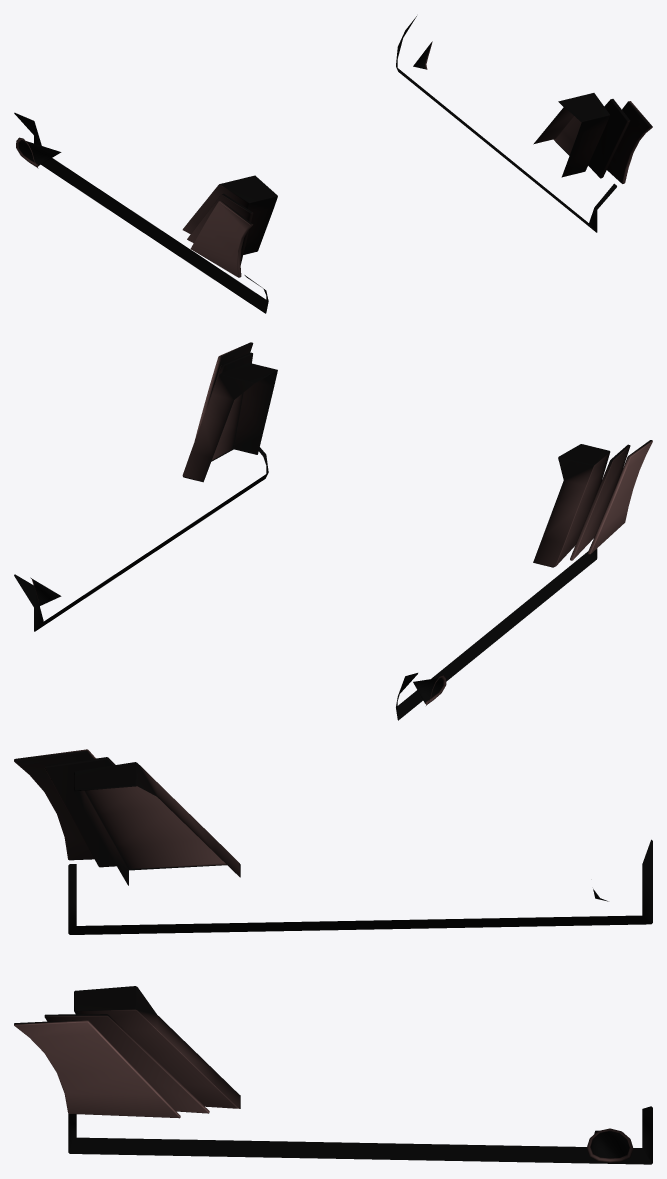
The model's file is Viper_Skirt_03_Trim.fbx.
The picture shows the model from 3 angles, top to bottom: view 1: azimuth 30°, elevation 25°; view 2: azimuth 150°, elevation 25°; view 3: azimuth 270°, elevation 25°; orthographic projection. The views are drawn at different scales.
Visible parts, largest first — view 1: Viper_Skirt_03_Trim; view 2: Viper_Skirt_03_Trim; view 3: Viper_Skirt_03_Trim.
Part boxes in pixels (bbox=[...]): Viper_Skirt_03_Trim: bbox=[14, 16, 652, 313]; Viper_Skirt_03_Trim: bbox=[14, 342, 652, 720]; Viper_Skirt_03_Trim: bbox=[14, 749, 652, 1164].
Size of the model in its own units: 187 by 50.36 by 183.
